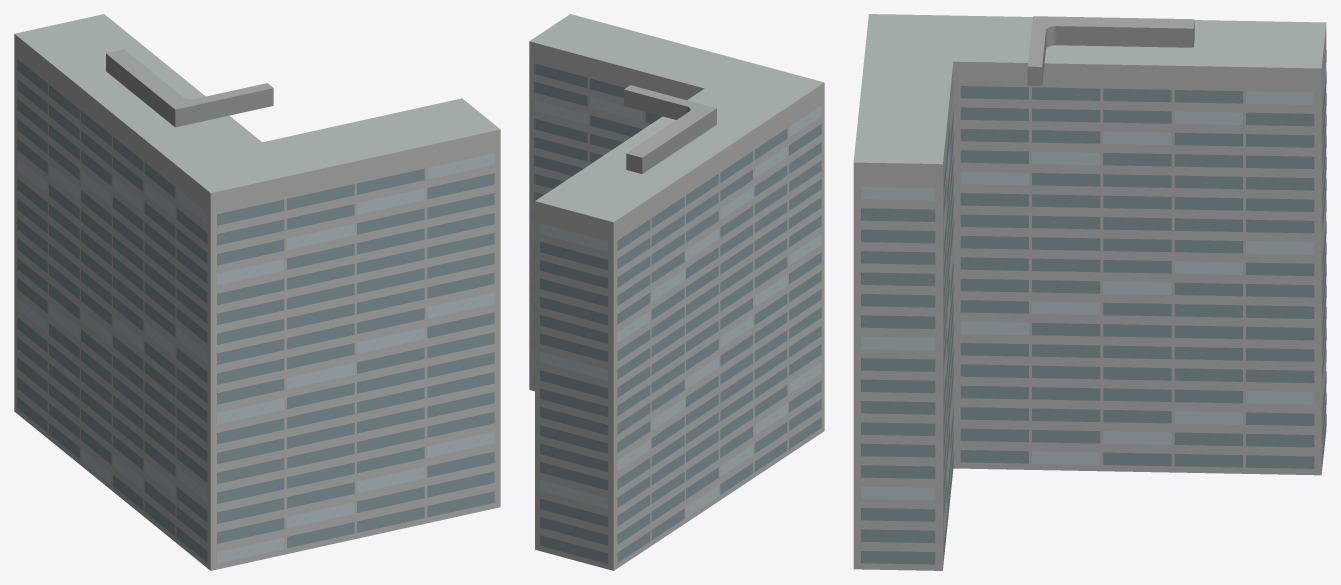
File: apt-a13409001.glb
3 views of the same model, side by side, from view 1: azimuth 30°, elevation 25°; view 2: azimuth 150°, elevation 25°; view 3: azimuth 270°, elevation 25° (orthographic). The views are drawn at different scales.
Parts seen in each view (by area): view 1: apt-a13409001; view 2: apt-a13409001; view 3: apt-a13409001.
Part boxes in pixels (x1,y1,x2,y2): apt-a13409001: [14, 14, 500, 570]; apt-a13409001: [529, 14, 824, 570]; apt-a13409001: [853, 14, 1326, 570].
Size of the model in its own units: 40.1 by 53 by 53.35.
